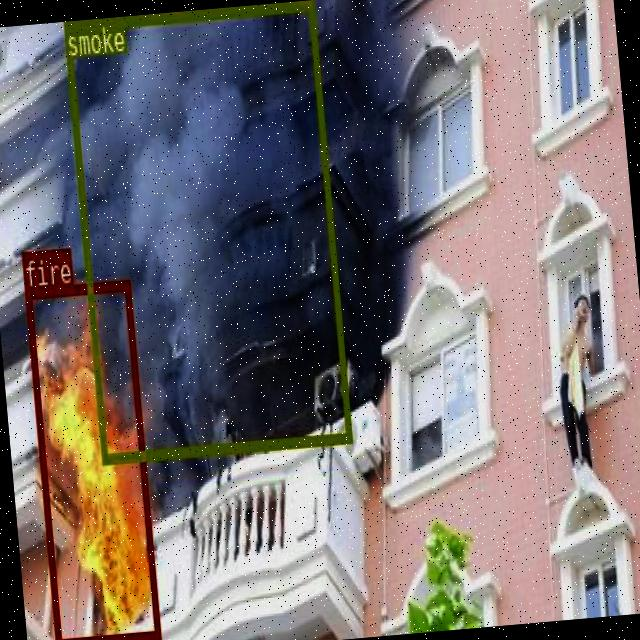fire: (23, 277, 159, 640)
smoke: (62, 0, 351, 462)
